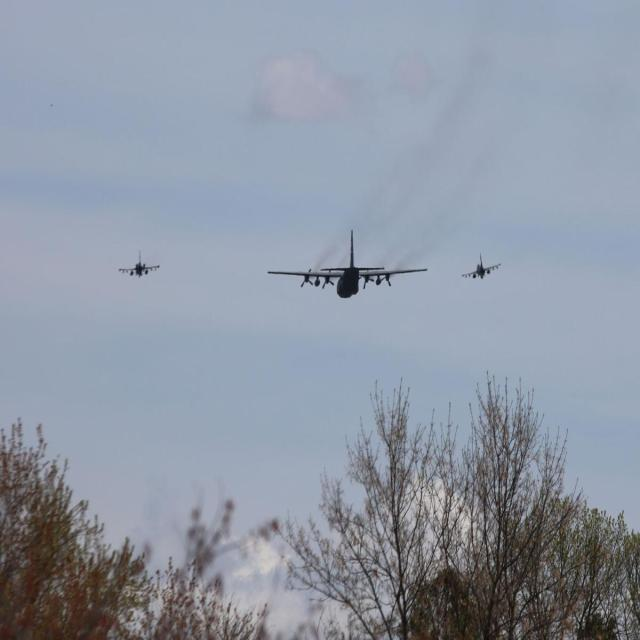MIL_Plane: (267, 229, 428, 298), (118, 249, 160, 278), (461, 253, 502, 280)
